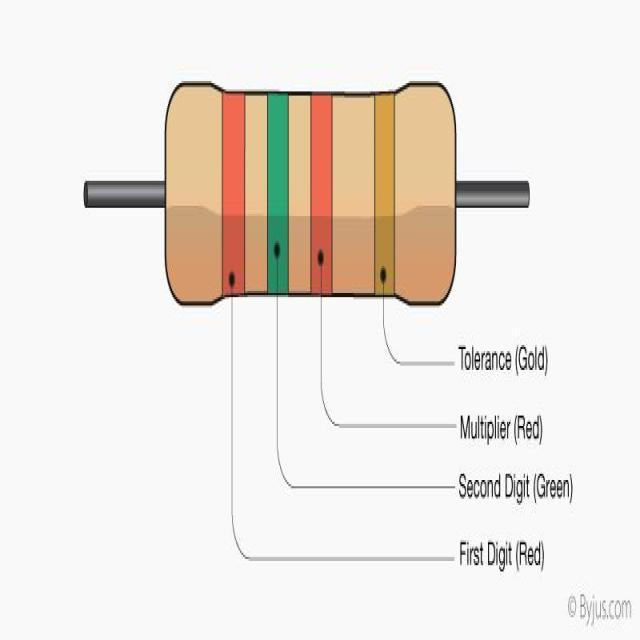Resistor Carbon-Film: (162, 81, 462, 307)
